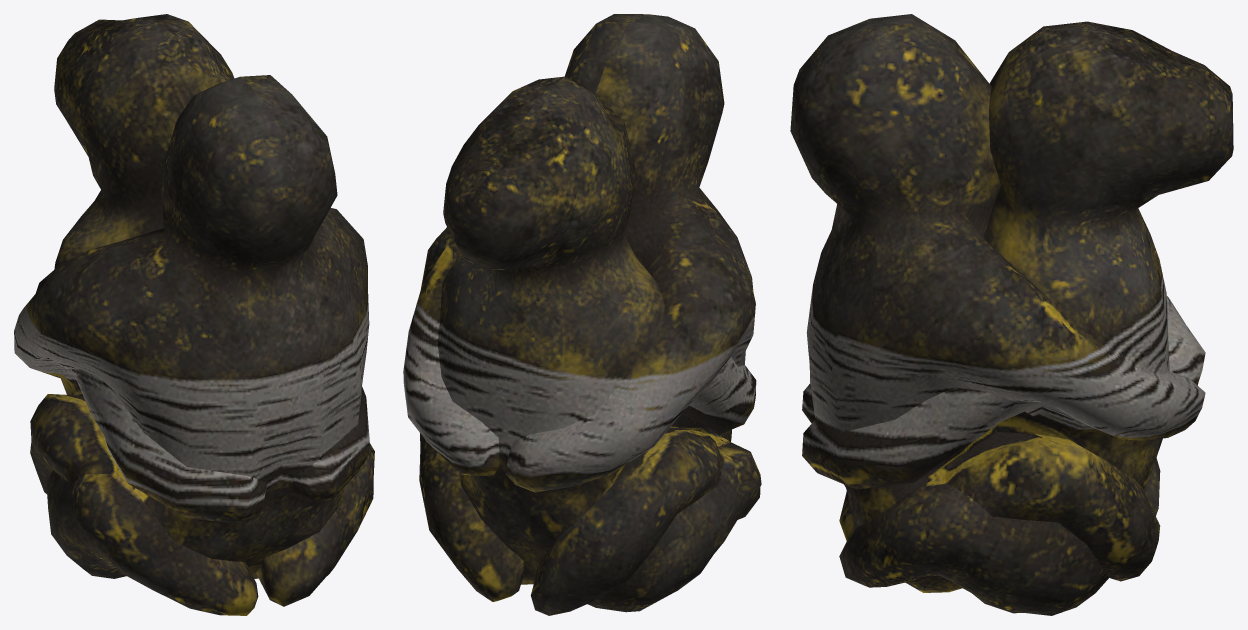
File: charmAmulet.FBX
The picture shows the model from 3 angles, left to right: view 1: azimuth 30°, elevation 25°; view 2: azimuth 150°, elevation 25°; view 3: azimuth 270°, elevation 25°; orthographic projection. The views are drawn at different scales.
Visible parts, largest first — view 1: SM_CharmAmulet; view 2: SM_CharmAmulet; view 3: SM_CharmAmulet.
Part boxes in pixels (x1,y1,x2,y2): SM_CharmAmulet: (14,14,374,615); SM_CharmAmulet: (403,14,761,615); SM_CharmAmulet: (790,14,1233,615).
Size of the model in its own units: 6.2 by 10.08 by 7.31.
Materials: 1 (1 with a texture image).
